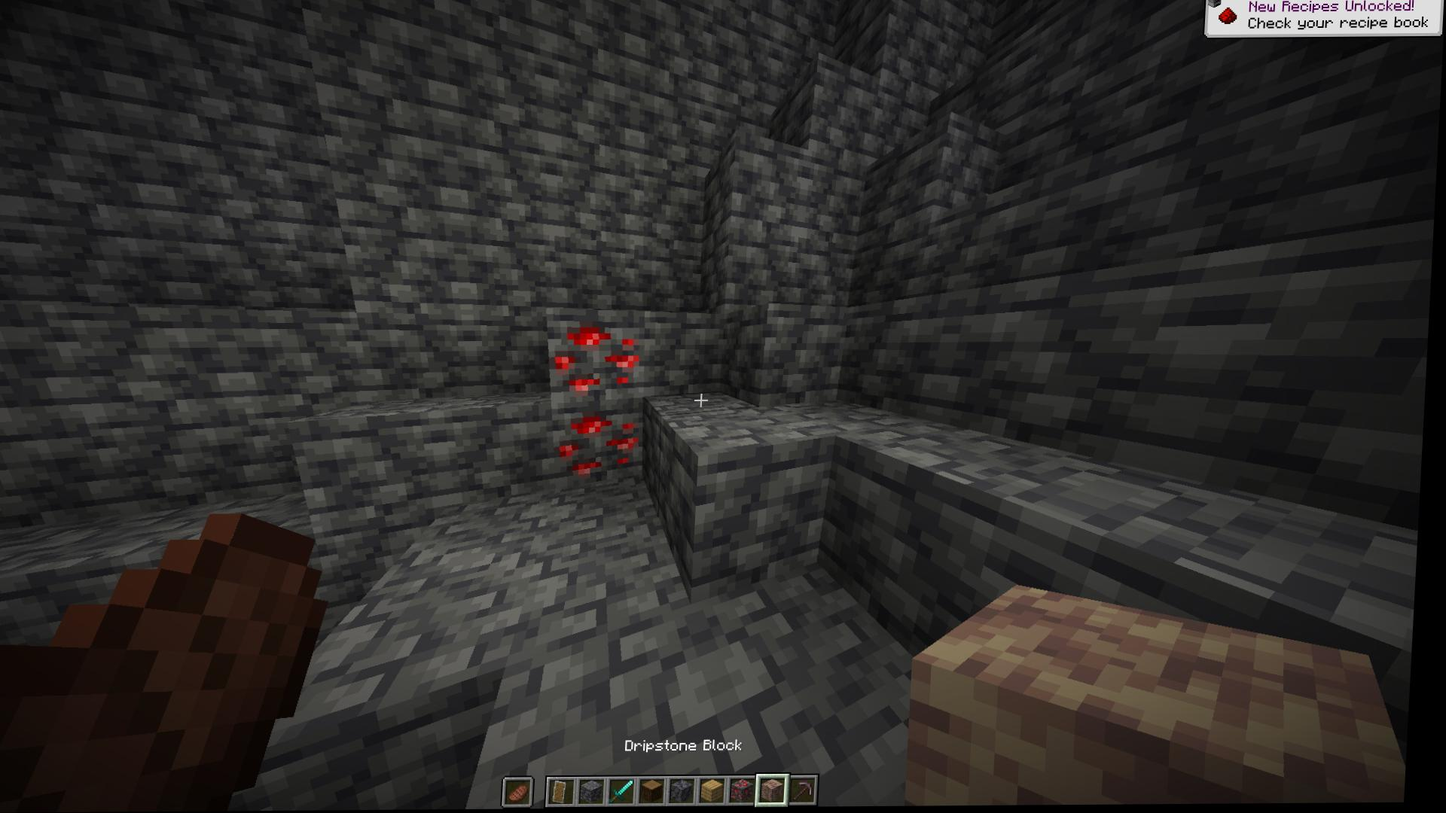redstone ore: (548, 313, 650, 399), (550, 396, 648, 481)
